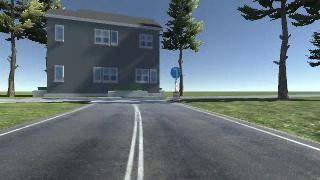turn_left: (170, 66, 182, 78)
